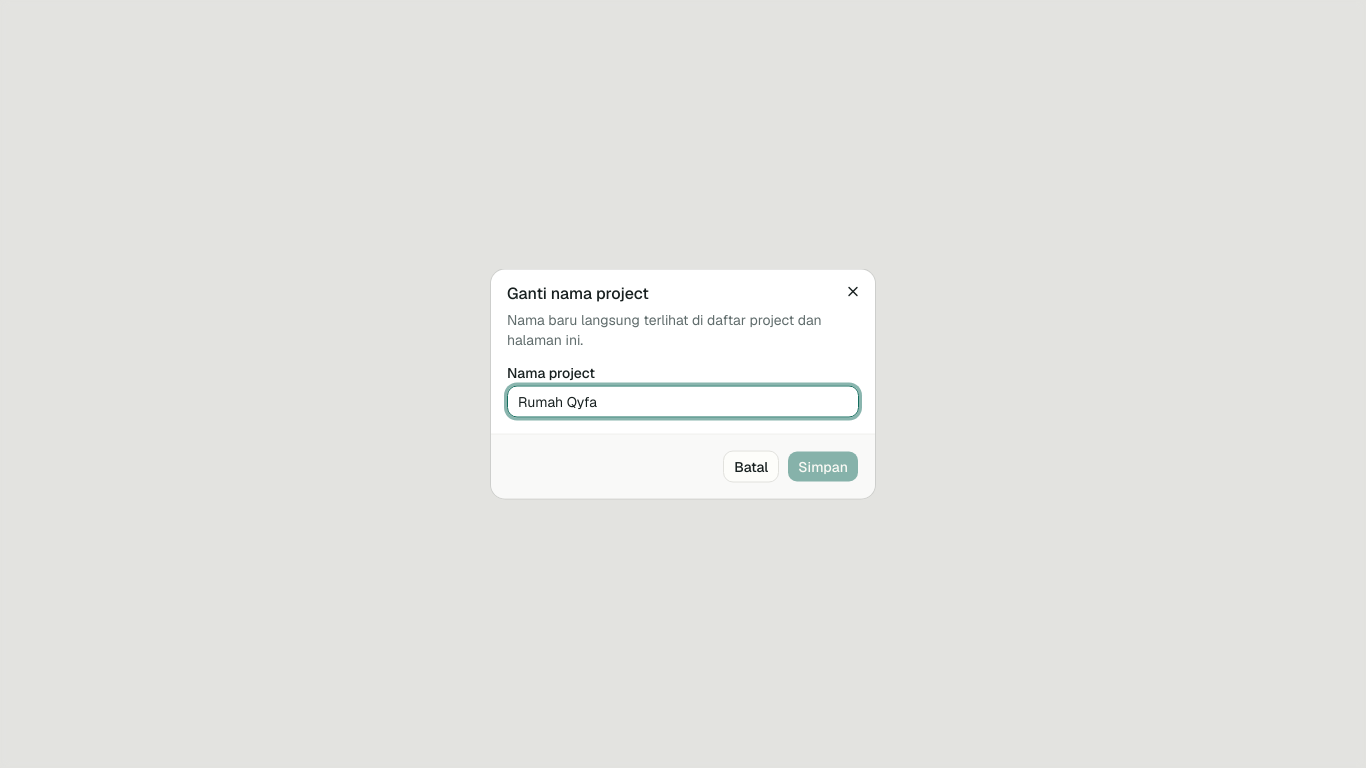
Test case: RenameProjectDialog › tombol Simpan disabled saat nama < 2 karakter
The image size is (1366, 768).
Replace the text in the field showing "Rumah Qyfa" with "A" at (683, 402), box 507,386 -> 859,418
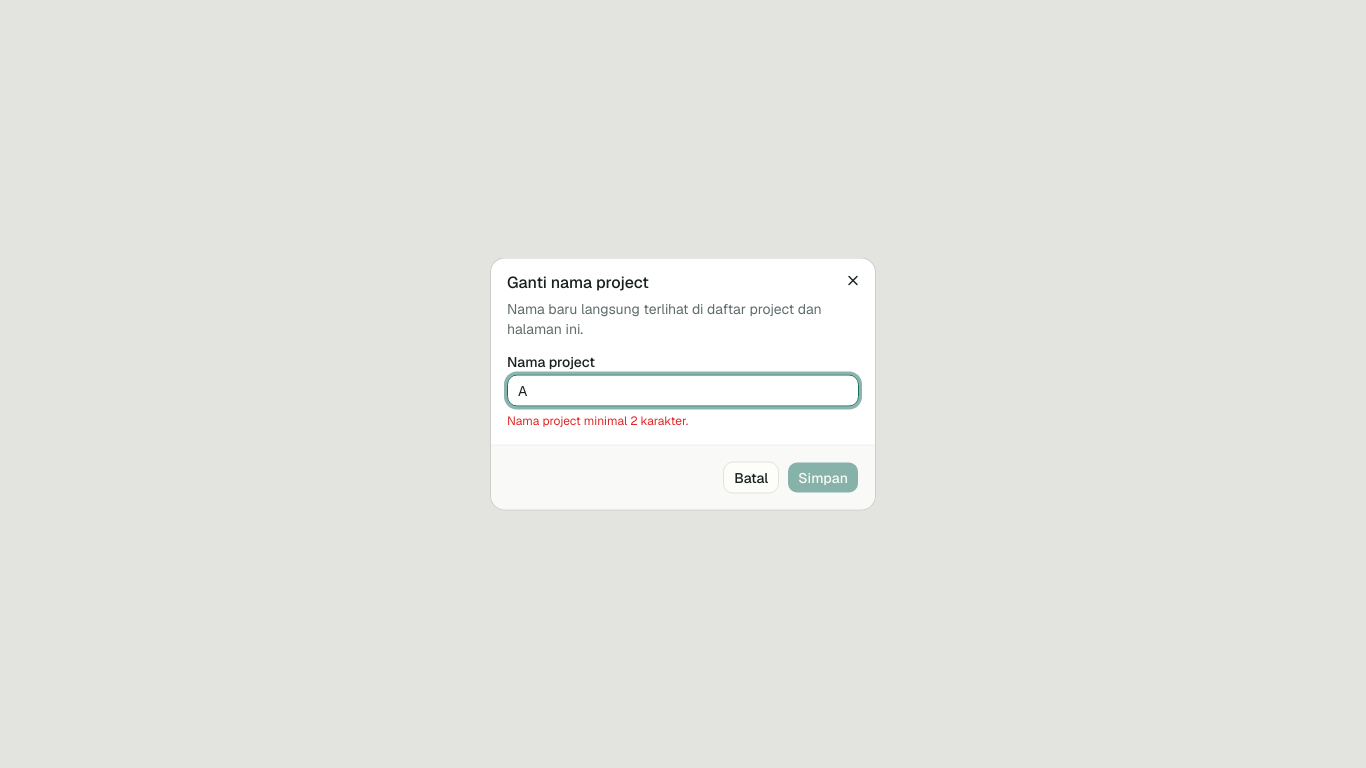
expect the button "Simpan" is disabled: met, box 787,462 -> 859,494
expect the text "Nama project minimal 2 karakter." is shown: met, box 507,412 -> 688,428
